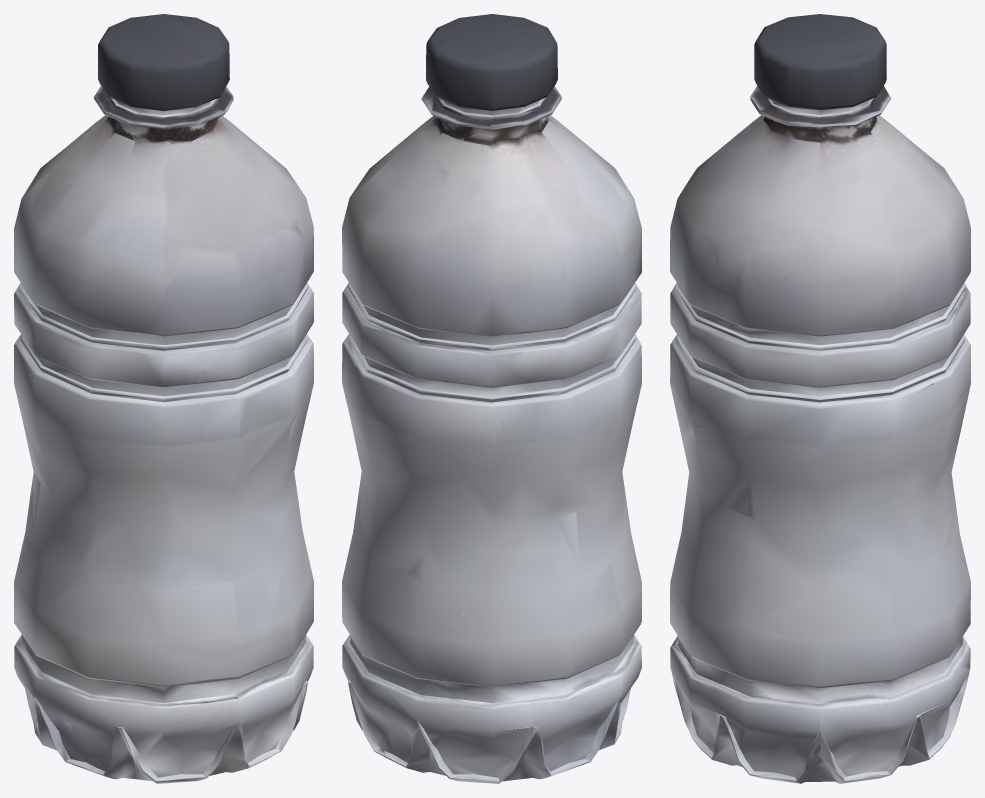
Rendered from bottle_water_plastikovaya_0_5_l_idle.glb.
3 views of the same model, side by side, from view 1: azimuth 30°, elevation 25°; view 2: azimuth 150°, elevation 25°; view 3: azimuth 270°, elevation 25° (orthographic).
Parts seen in each view (by area): view 1: tripo_node_bae9e88b-7e01-4cb8-8b8b-521d18385d50; view 2: tripo_node_bae9e88b-7e01-4cb8-8b8b-521d18385d50; view 3: tripo_node_bae9e88b-7e01-4cb8-8b8b-521d18385d50.
Part boxes in pixels (x1,y1,x2,y2): tripo_node_bae9e88b-7e01-4cb8-8b8b-521d18385d50: [14, 14, 313, 783]; tripo_node_bae9e88b-7e01-4cb8-8b8b-521d18385d50: [342, 14, 641, 783]; tripo_node_bae9e88b-7e01-4cb8-8b8b-521d18385d50: [670, 14, 970, 783].
Size of the model in its own units: 0.0964 by 0.25 by 0.0972.
1 material, 1 textured.
